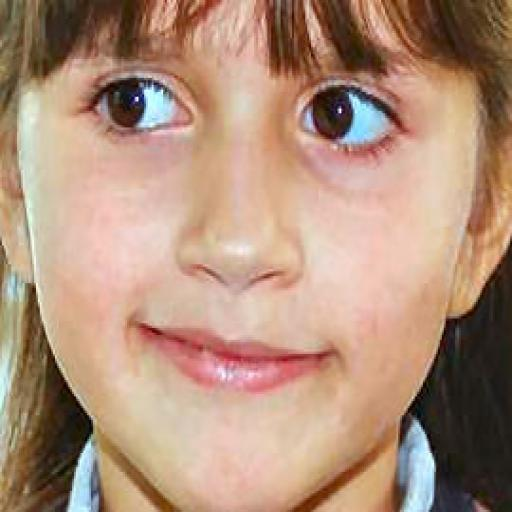Autism: (9, 2, 512, 498)
